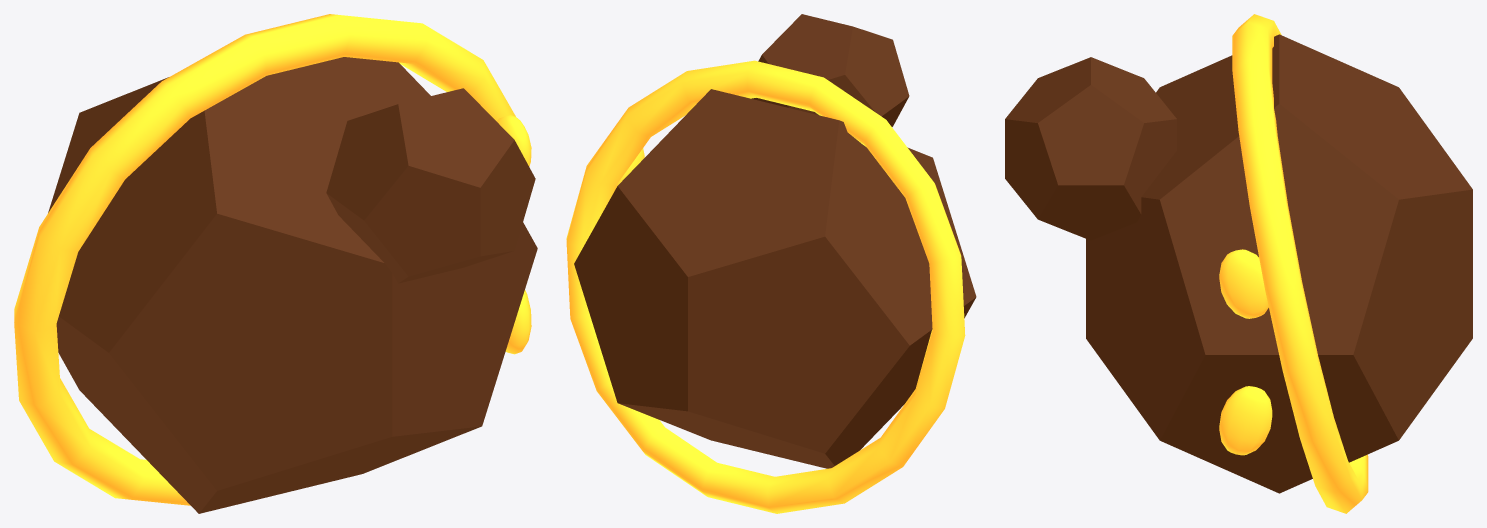
Rendered from trauma-wina.glb.
3 views of the same model, side by side, from view 1: azimuth 30°, elevation 25°; view 2: azimuth 150°, elevation 25°; view 3: azimuth 270°, elevation 25° (orthographic). The views are drawn at different scales.
Visible parts, largest first — view 1: Shadow, Glow; view 2: Shadow, Glow; view 3: Shadow, Glow.
Boxes of the visible parts, x1=… form: Shadow: x1=48, y1=57, x2=537, y2=513; Glow: x1=14, y1=14, x2=531, y2=505; Shadow: x1=574, y1=14, x2=976, y2=468; Glow: x1=566, y1=60, x2=965, y2=513; Shadow: x1=1005, y1=34, x2=1472, y2=493; Glow: x1=1219, y1=14, x2=1368, y2=513.
Bounding box in the file's own units: 1.22 × 1.18 × 1.12.
